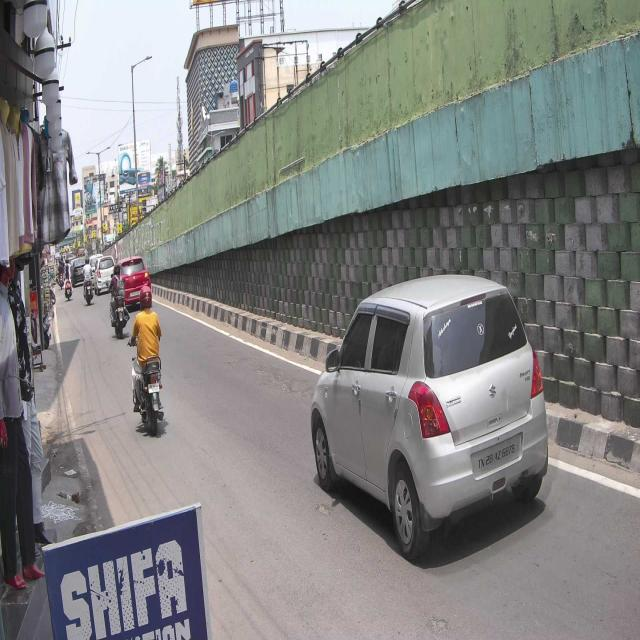single_rider: (130, 281, 166, 438)
